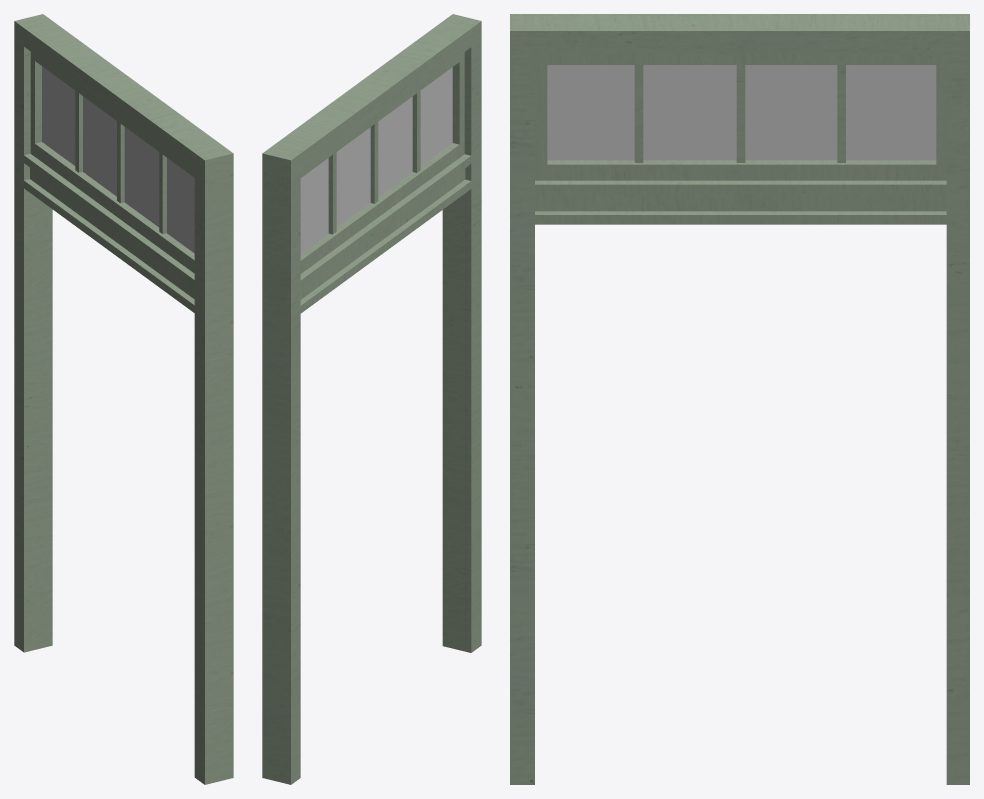
The model's file is SM_WD45_FRAME.fbx.
The picture shows the model from 3 angles, left to right: view 1: azimuth 30°, elevation 25°; view 2: azimuth 150°, elevation 25°; view 3: azimuth 270°, elevation 25°; orthographic projection. The views are drawn at different scales.
Parts seen in each view (by area): view 1: SM_WD45_FRAME; view 2: SM_WD45_FRAME; view 3: SM_WD45_FRAME.
Boxes of the visible parts, left/top/right/bottom form: SM_WD45_FRAME: left=14, top=14, right=233, bottom=784; SM_WD45_FRAME: left=262, top=14, right=481, bottom=784; SM_WD45_FRAME: left=510, top=14, right=969, bottom=784.
Bounding box in the file's own units: 17.57 × 201 × 364.
2 materials, 1 textured.
